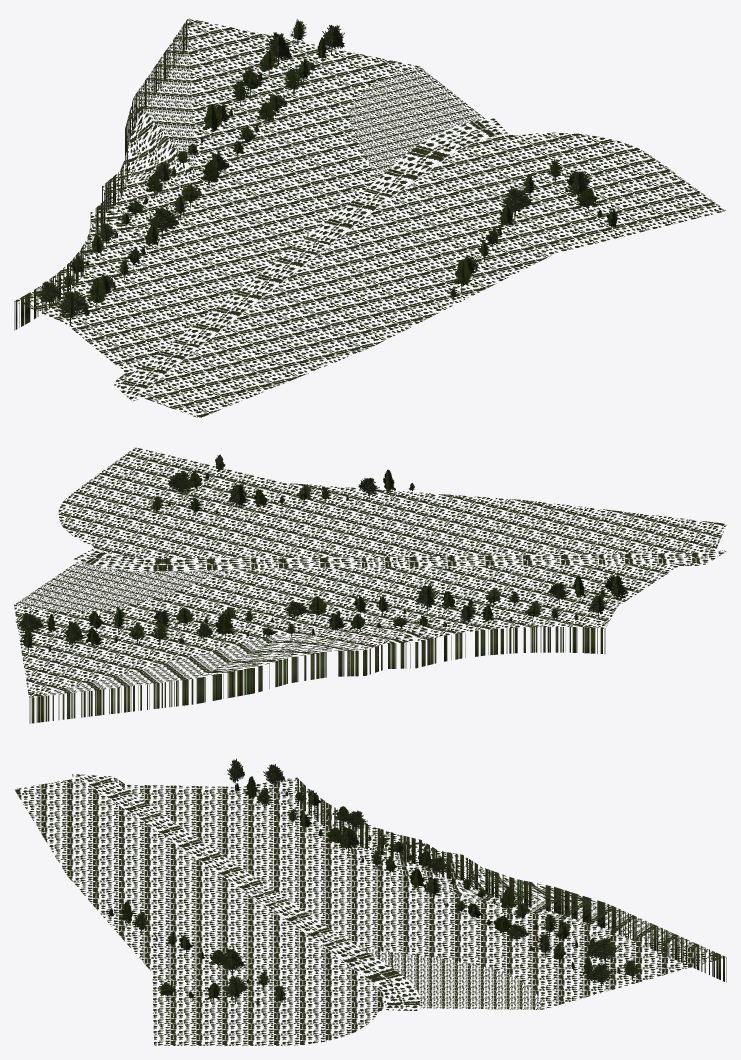
The model's file is redring4.glb.
The picture shows the model from 3 angles, top to bottom: view 1: azimuth 30°, elevation 25°; view 2: azimuth 150°, elevation 25°; view 3: azimuth 270°, elevation 25°; orthographic projection. The views are drawn at different scales.
Parts seen in each view (by area): view 1: redring4; view 2: redring4; view 3: redring4.
Boxes of the visible parts, bbox=[...] form: redring4: bbox=[14, 18, 725, 417]; redring4: bbox=[14, 447, 726, 723]; redring4: bbox=[15, 758, 726, 1045].
Size of the model in its own units: 298 by 28.45 by 331.
1 material, 1 textured.
